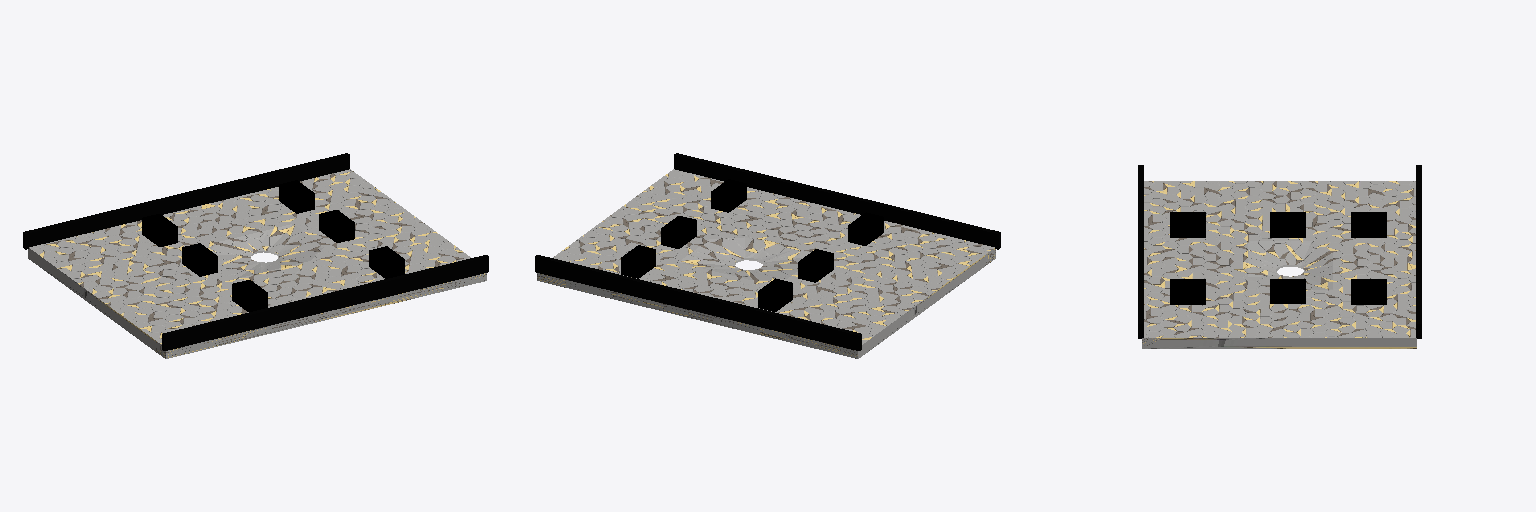
3 views of the same model, side by side, from view 1: azimuth 30°, elevation 25°; view 2: azimuth 150°, elevation 25°; view 3: azimuth 270°, elevation 25° (orthographic).
Parts seen in each view (by area): view 1: Mesa_style; view 2: Mesa_style; view 3: Mesa_style.
Part boxes in pixels (x1,y1,x2,y2): Mesa_style: (23,153,488,358); Mesa_style: (535,153,1000,358); Mesa_style: (1138,165,1421,348).
Bounding box in the file's own units: 19.91 × 1.65 × 15.03.
3 materials, 1 textured.